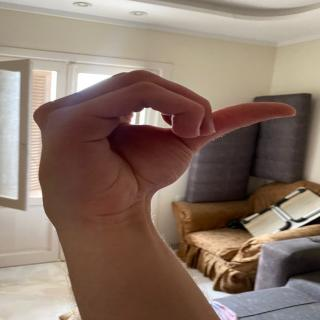WAW: (32, 66, 309, 218)
